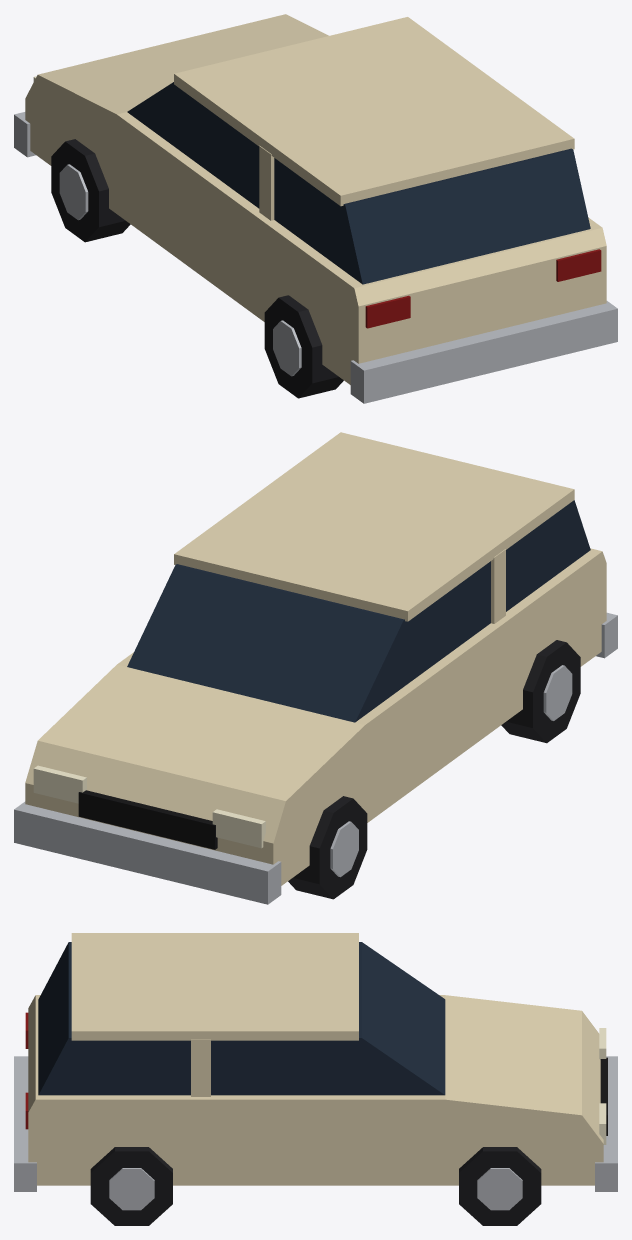
File: CarHatchCream.obj
3 renders of one model, top to bottom at view 1: azimuth 30°, elevation 25°; view 2: azimuth 150°, elevation 25°; view 3: azimuth 270°, elevation 25°, orthographic. The views are drawn at different scales.
Parts seen in each view (by area): view 1: CarHatchCream; view 2: CarHatchCream; view 3: CarHatchCream.
Part boxes in pixels (<box>): CarHatchCream: <box>14,14,617,403</box>; CarHatchCream: <box>14,432,617,904</box>; CarHatchCream: <box>14,933,617,1225</box>.
Bounding box in the file's own units: 1.89 × 1.44 × 4.2.
Materials: 1 (1 with a texture image).
